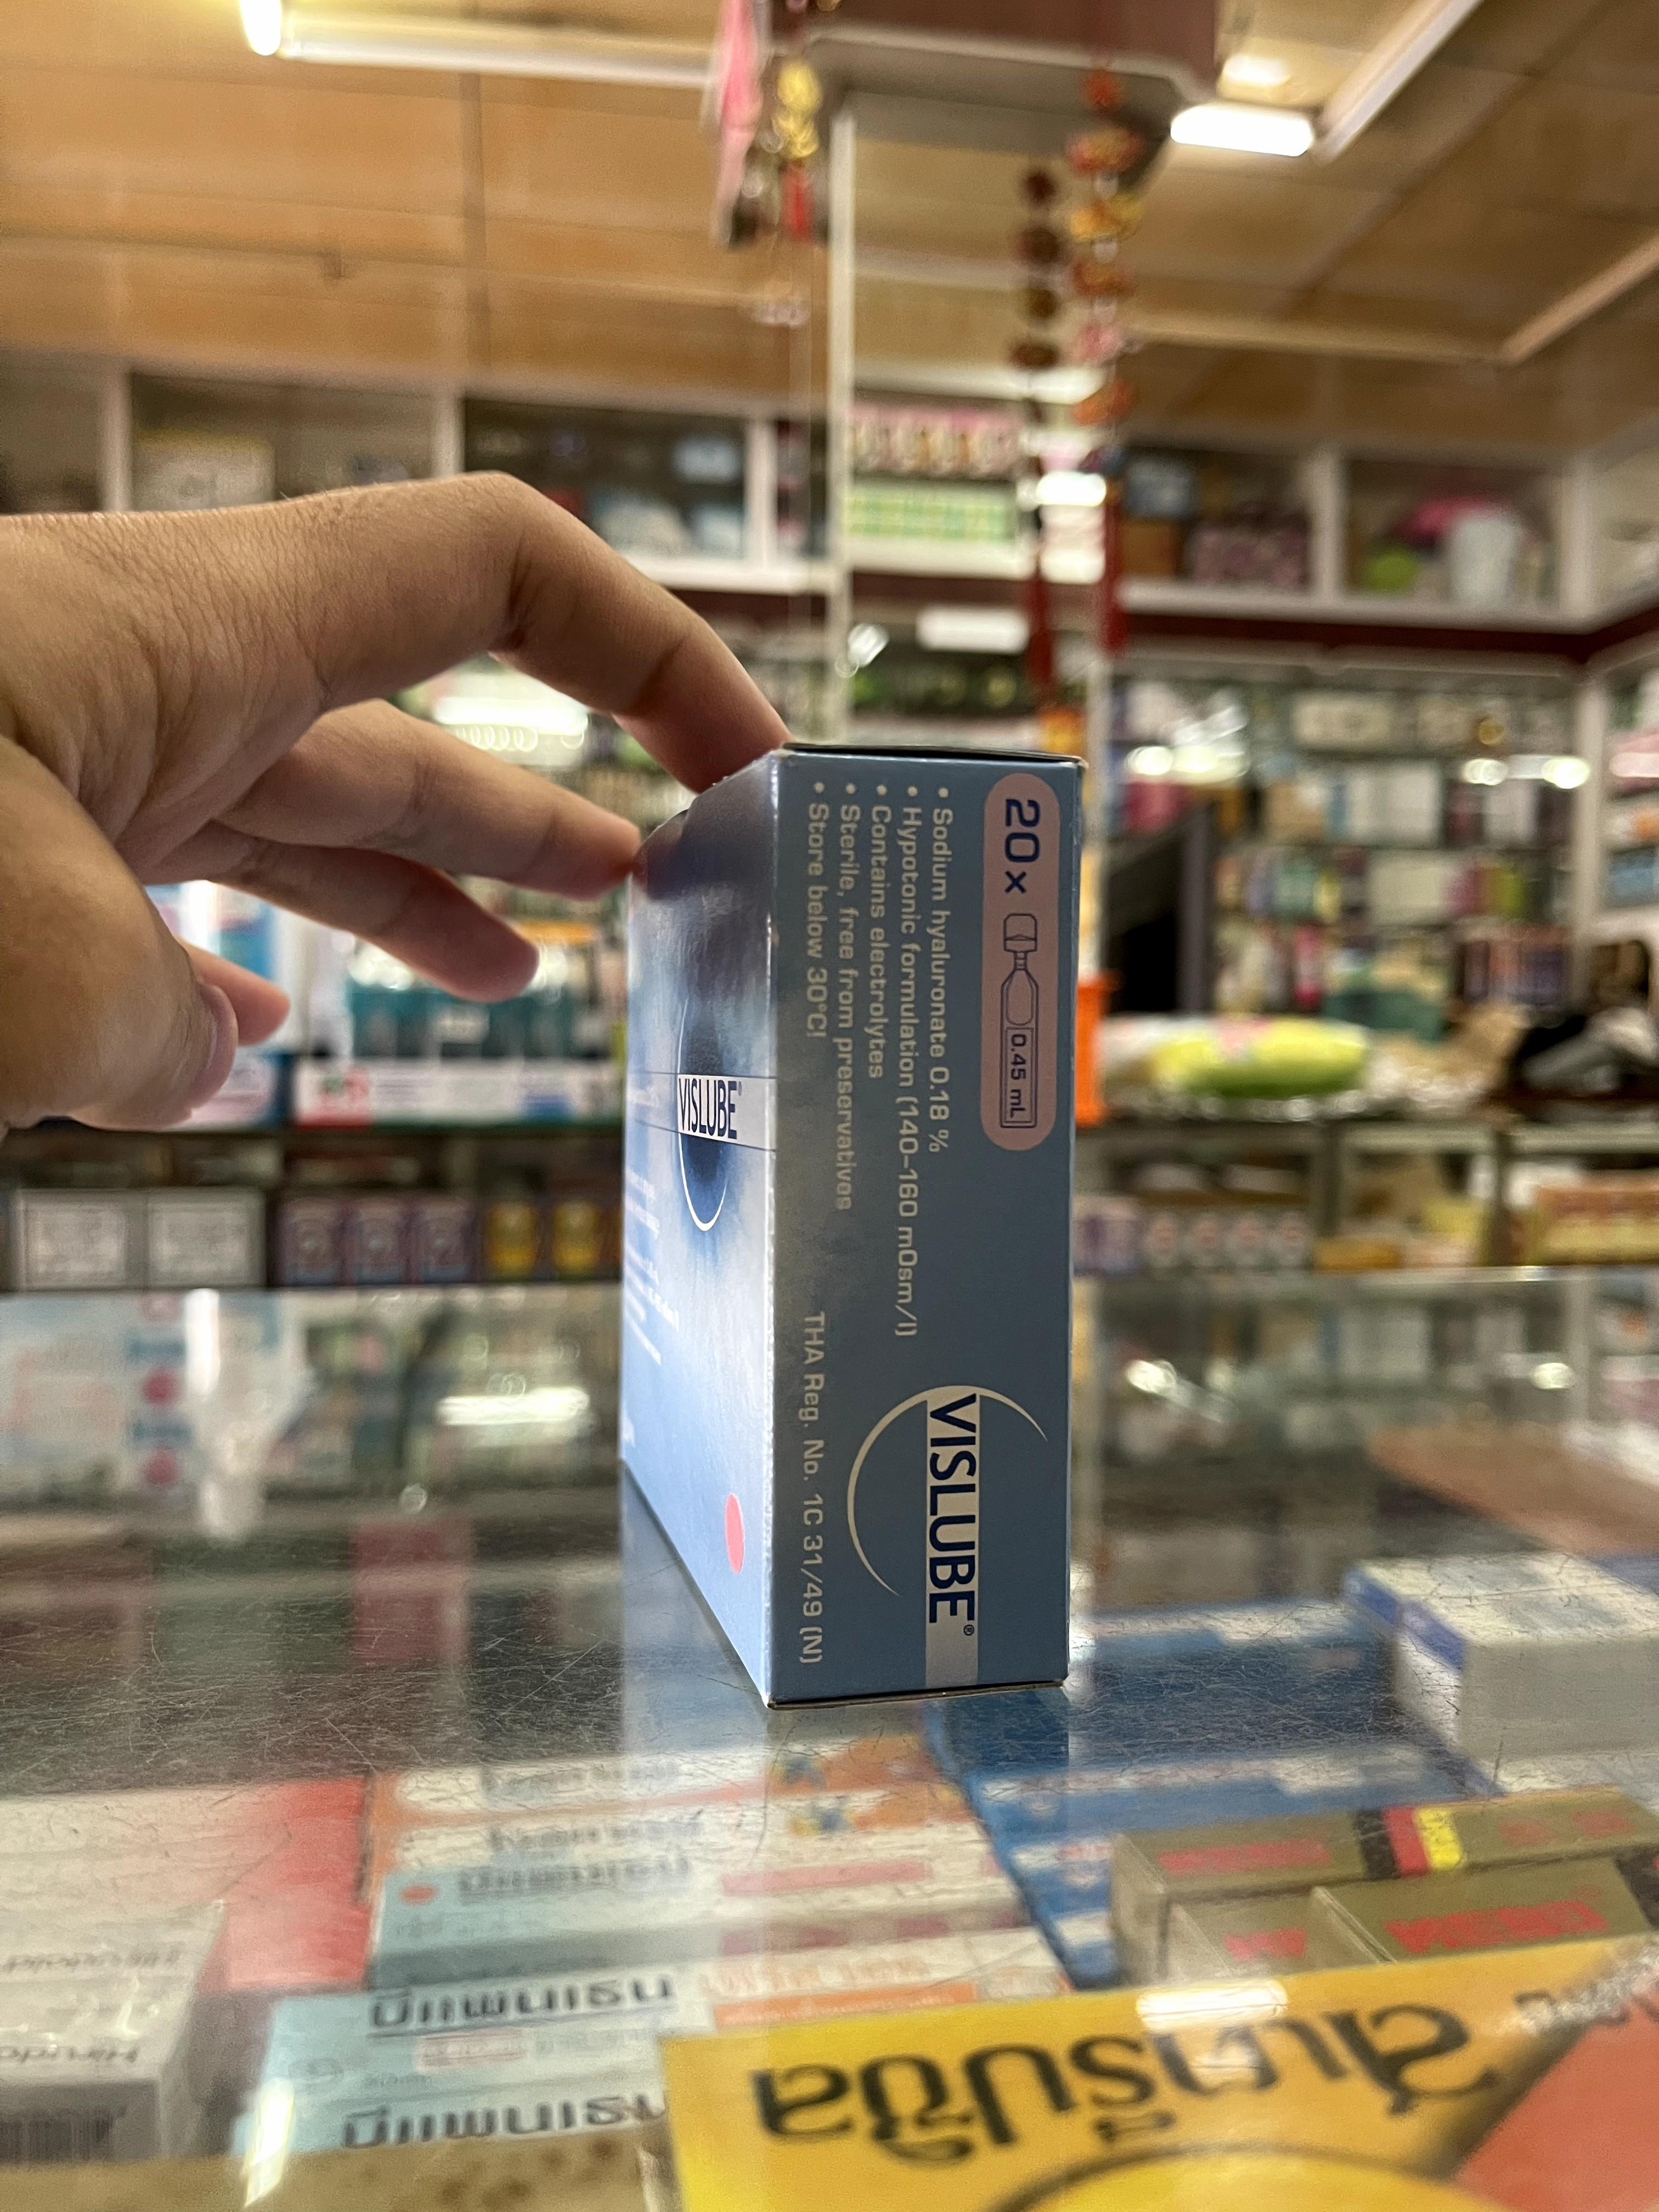Vislube20: (626, 749, 1080, 1709)
